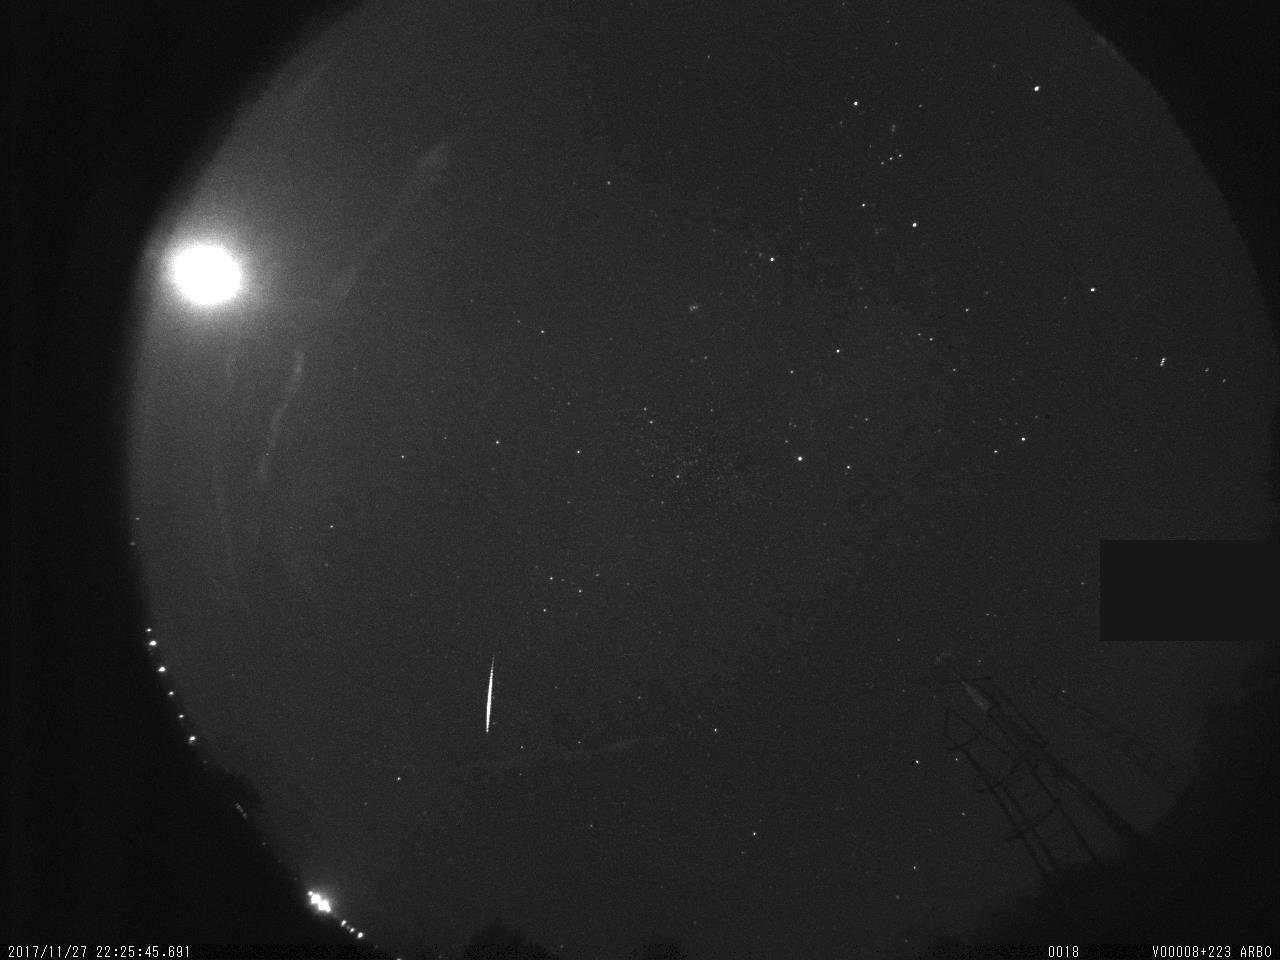meteor: (475, 651, 506, 735)
